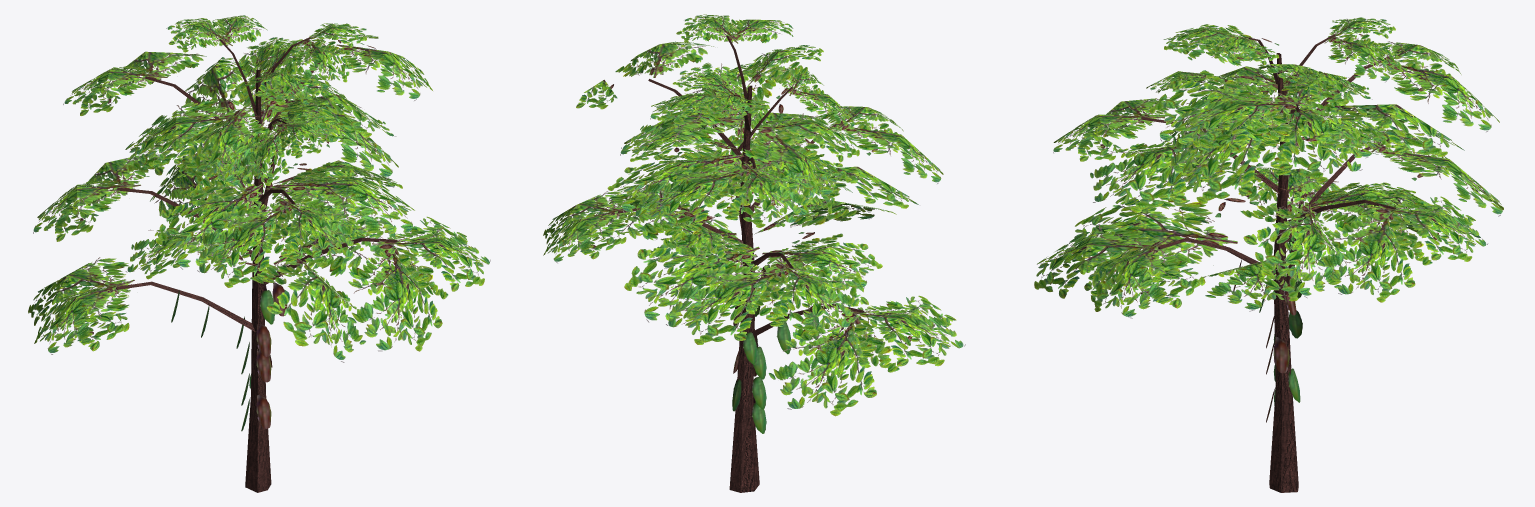
The model's file is tree_cacao_1.dae.
3 renders of one model, left to right at view 1: azimuth 30°, elevation 25°; view 2: azimuth 150°, elevation 25°; view 3: azimuth 270°, elevation 25°, orthographic. The views are drawn at different scales.
Visible parts, largest first — view 1: cacao_1; view 2: cacao_1; view 3: cacao_1.
Boxes of the visible parts, left/top/right/bottom form: cacao_1: left=28, top=15, right=490, bottom=492; cacao_1: left=543, top=14, right=965, bottom=492; cacao_1: left=1034, top=17, right=1503, bottom=492.
Bounding box in the file's own units: 8.15 × 8.33 × 8.71.
